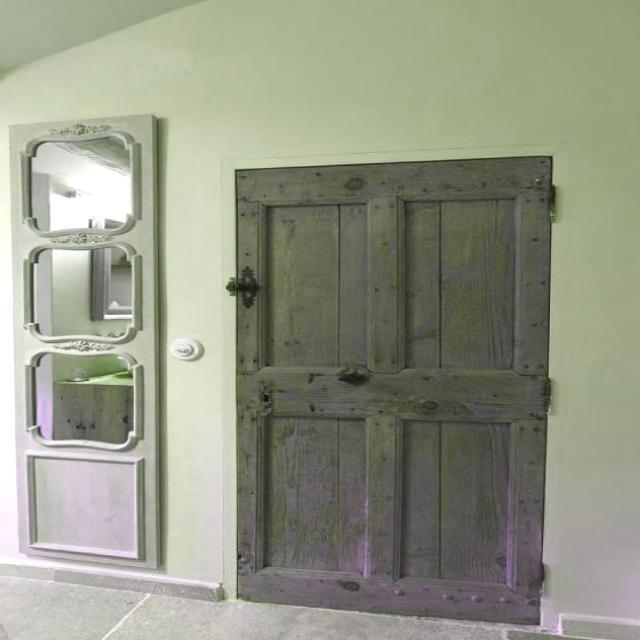door: (233, 154, 553, 624)
